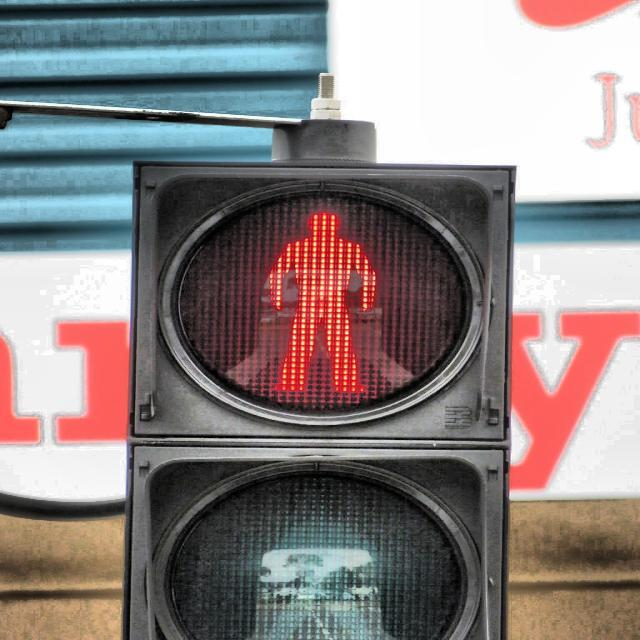red_light: (260, 207, 384, 399)
